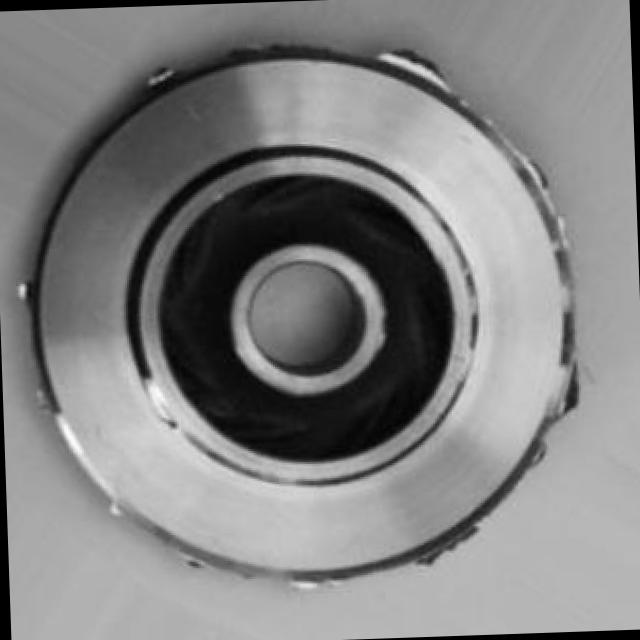Defect: (380, 38, 453, 92)
